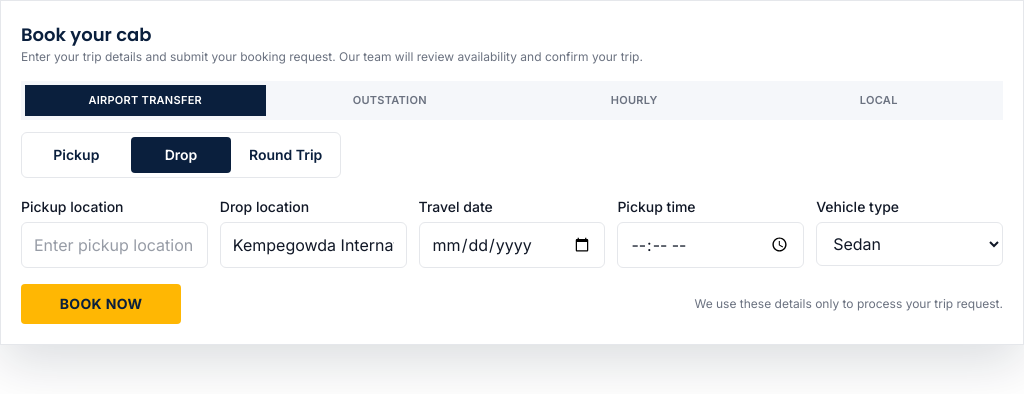
Test: authenticated booking › locks Airport Pickup and switches cleanly to Airport Drop
Type "Whitefield" into the field labelled "Pickup location" at [114, 245], box [21,222,208,268]
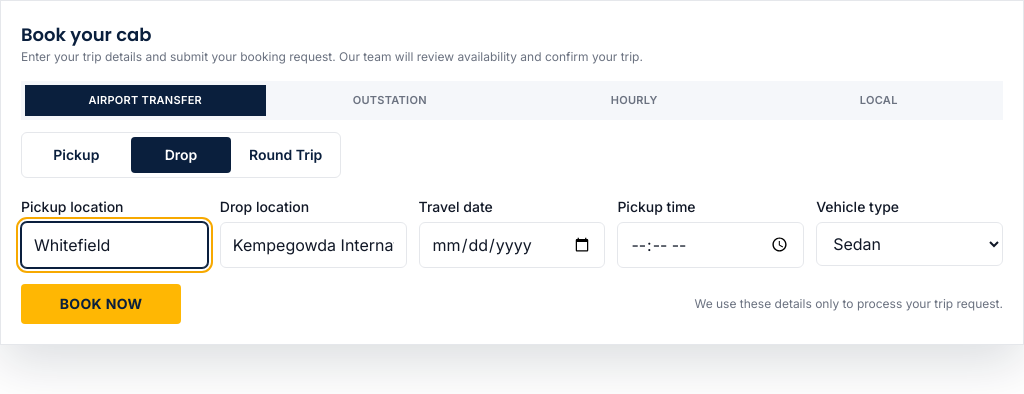
Click the button "Pickup" at [76, 155], box [26,137,127,173]
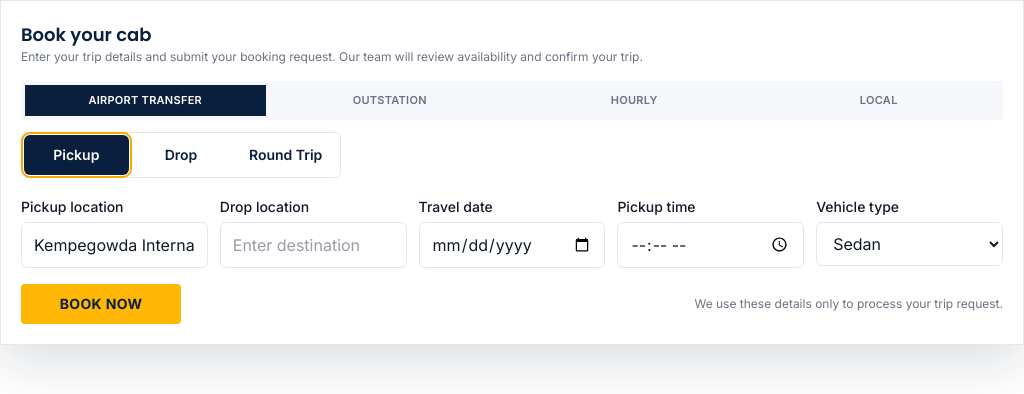
Expected: the field labelled "Pickup location" holds "Kempegowda International Airport (BLR)", [21,222,208,268]
Type "Whitefield" into the field labelled "Drop location" at [313, 245], box [220,222,407,268]
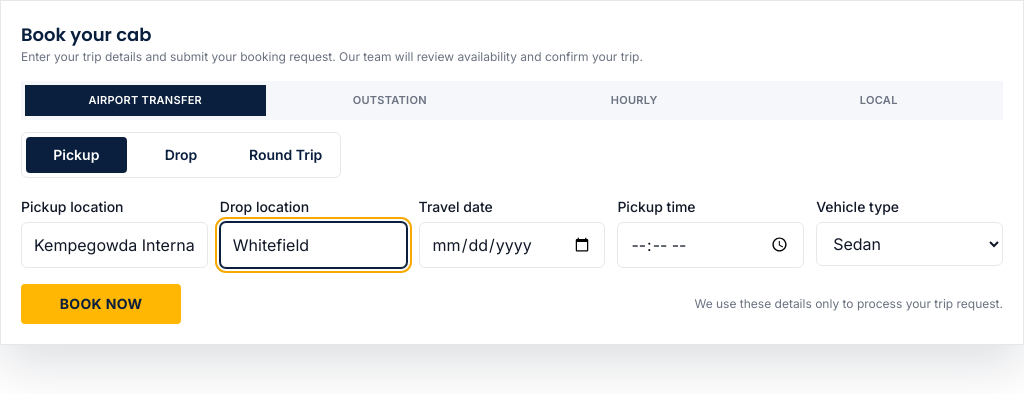
Click the button "Drop" at [181, 155], box [131,137,231,173]
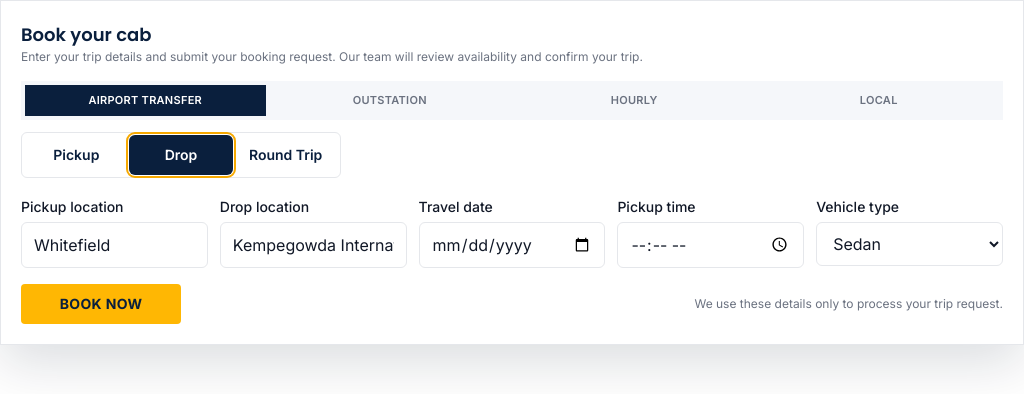
Expected: the field labelled "Drop location" holds "Kempegowda International Airport (BLR)", [220,222,407,268]
